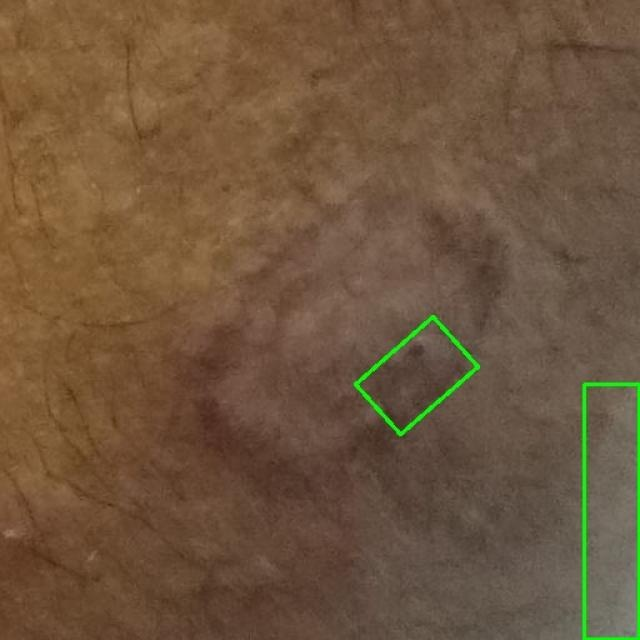Tinea Corporis: (356, 317, 478, 434), (584, 384, 639, 639)
